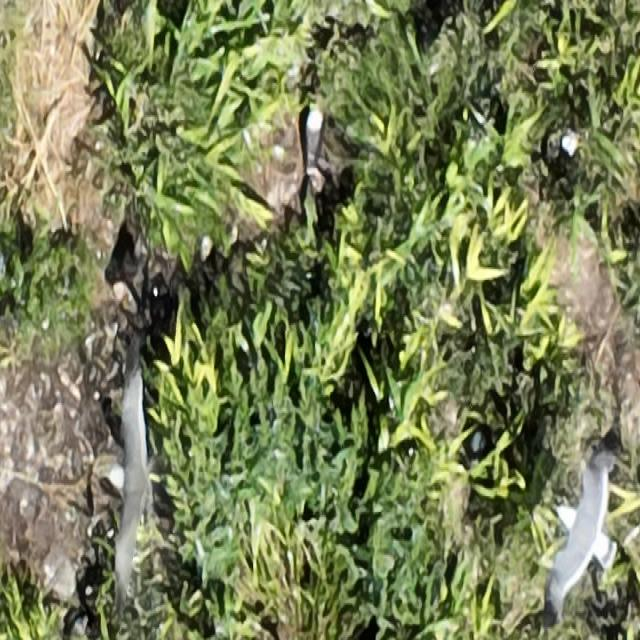F: (556, 443, 620, 591), (107, 385, 151, 572)
umineko: (303, 109, 323, 161)
